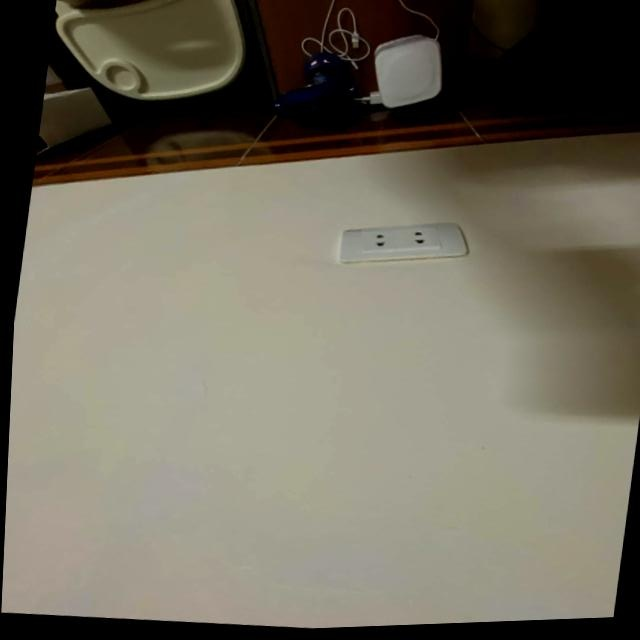outlet: (335, 212, 472, 276)
